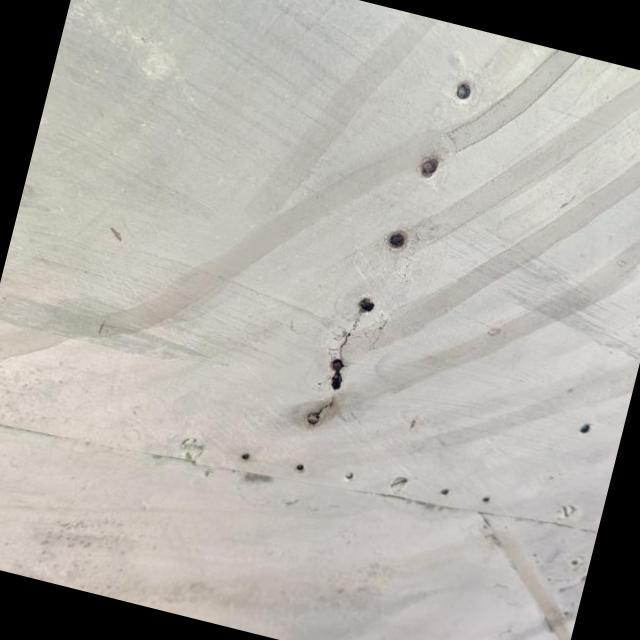Rupture: (284, 304, 395, 450)
